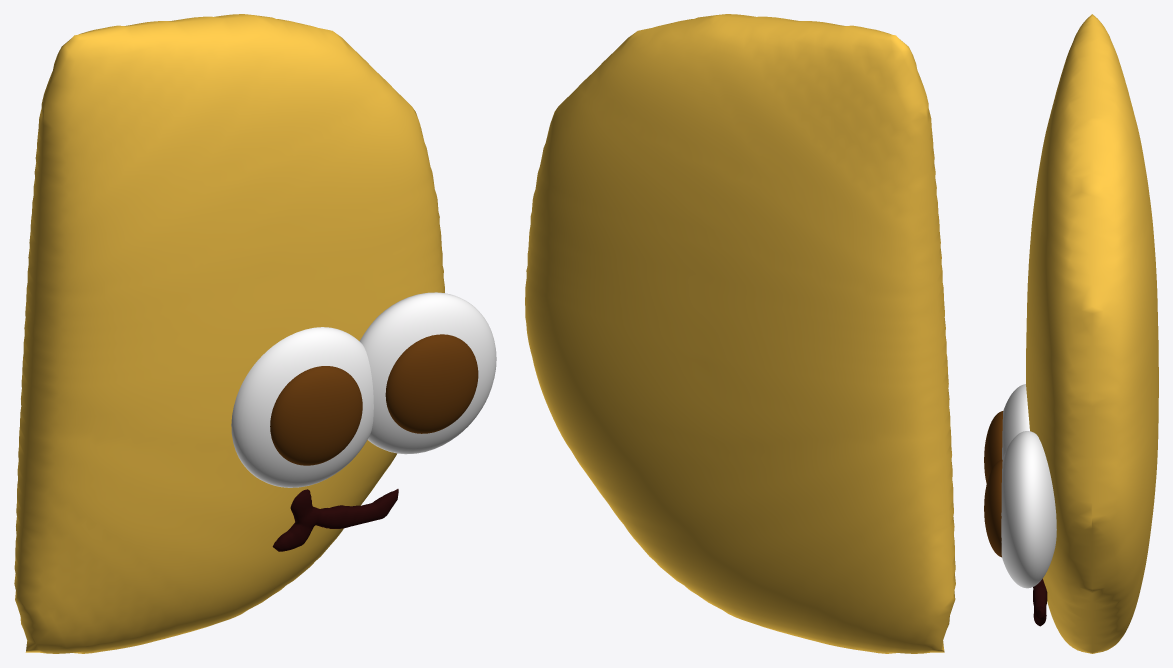
3 renders of one model, left to right at view 1: azimuth 30°, elevation 25°; view 2: azimuth 150°, elevation 25°; view 3: azimuth 270°, elevation 25°, orthographic. The views are drawn at different scales.
Visible parts, largest first — view 1: root_Material_44_0, root_Material_50_0 (×2), root_Material_62_0, root_Material_64_0, root_Material_58_0; view 2: root_Material_44_0; view 3: root_Material_44_0, root_Material_50_0 (×2), root_Material_64_0, root_Material_62_0, root_Material_58_0.
Part boxes in pixels (box(x1,y1,x2,y2)): root_Material_44_0: box(14, 14, 444, 653); root_Material_50_0 (×2): box(231, 292, 496, 487); root_Material_62_0: box(270, 366, 362, 465); root_Material_64_0: box(385, 334, 478, 433); root_Material_58_0: box(272, 489, 398, 551); root_Material_44_0: box(525, 14, 955, 653); root_Material_44_0: box(1026, 14, 1158, 653); root_Material_50_0 (×2): box(1001, 384, 1056, 588); root_Material_64_0: box(984, 459, 1002, 557); root_Material_62_0: box(984, 411, 1003, 483); root_Material_58_0: box(1033, 578, 1047, 626).
Size of the model in its own units: 0.00259 by 0.00348 by 0.000967.
Materials: 6 (2 with a texture image).
